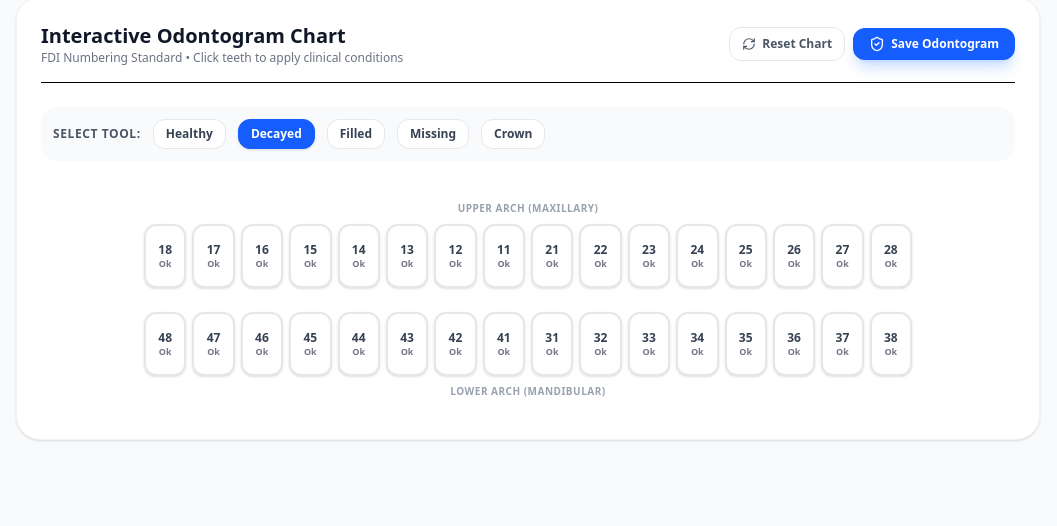
OdontogramCanvas (FR-EMR / TR-EMR-002) › shows the server error when saving fails
Expected: the text "Upper Arch (Maxillary)" is shown, [458,201,598,215]
Click the button "Save Odontogram" at (934, 44), box [853,28,1015,60]
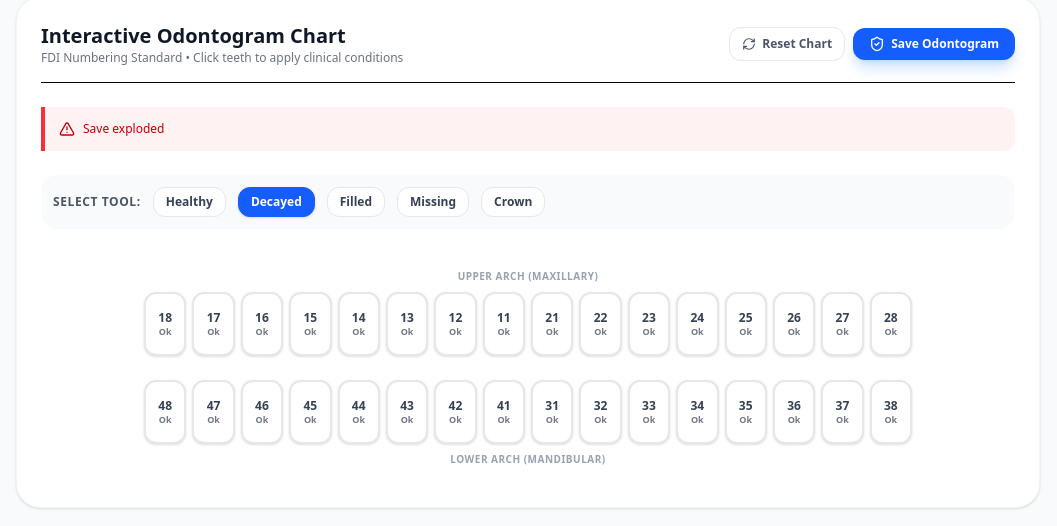
Expected: the text "Save exploded" is shown, [41,107,1015,151]
